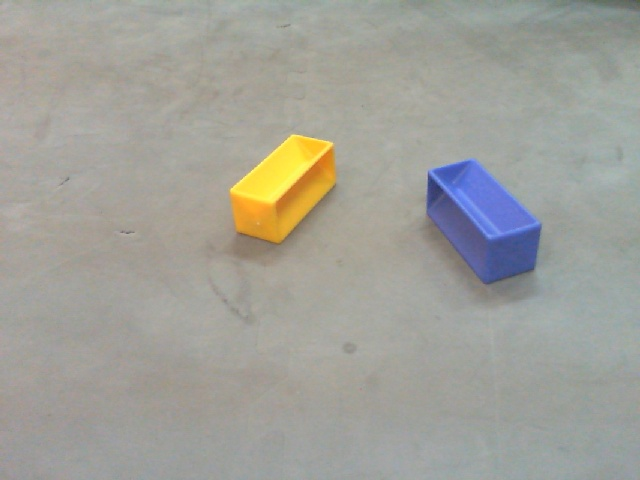BlueSample: (423, 156, 542, 289)
YellowSample: (224, 131, 342, 248)
